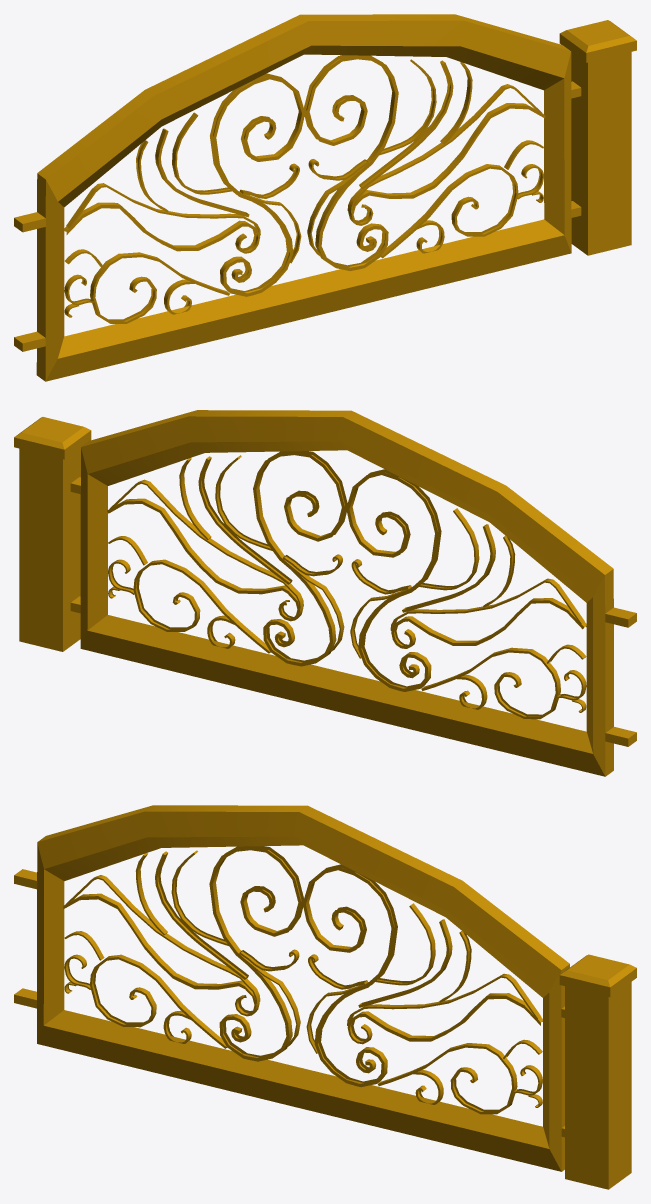
The model's file is fence.fbx.
3 renders of one model, top to bottom at view 1: azimuth 30°, elevation 25°; view 2: azimuth 150°, elevation 25°; view 3: azimuth 330°, elevation 25°, orthographic.
Visible parts, largest first — view 1: polySurface10; view 2: polySurface10; view 3: polySurface10.
Part boxes in pixels (<box>): polySurface10: <box>14,14,636,381</box>; polySurface10: <box>14,410,636,776</box>; polySurface10: <box>14,805,636,1189</box>.
Bounding box in the file's own units: 11.09 × 5.19 × 0.847.
